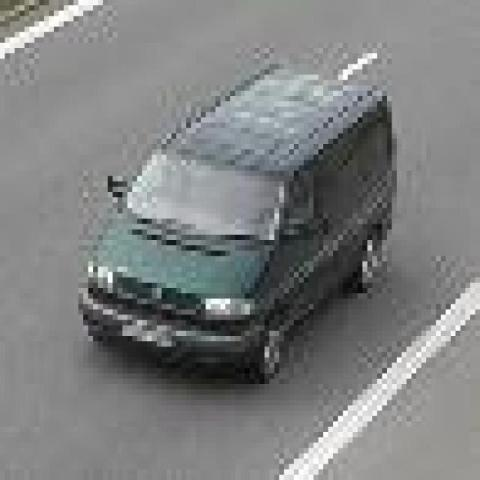van: (81, 67, 394, 387)
